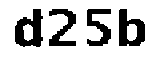2: (45, 8, 80, 50)
5: (84, 6, 112, 50)
b: (116, 7, 149, 51)
d: (8, 5, 45, 50)
